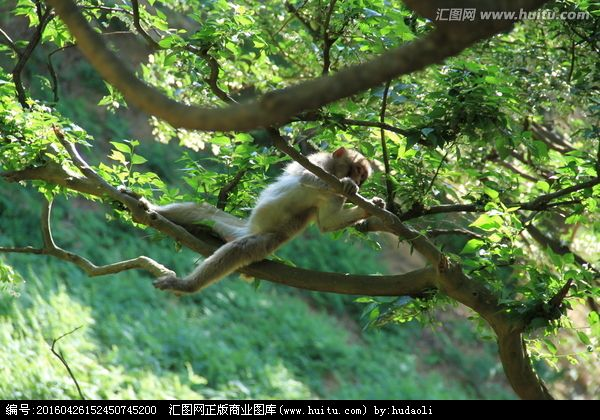monkey: (186, 135, 384, 282)
